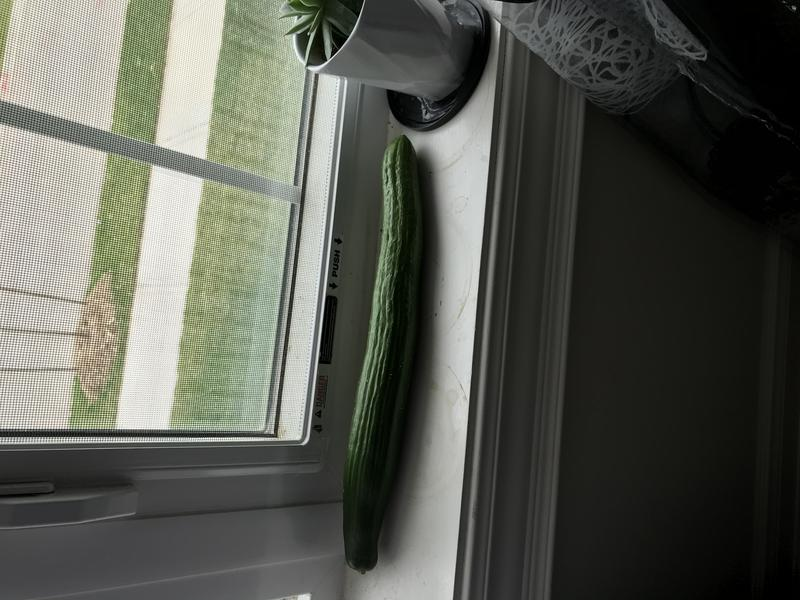cucumber: (330, 125, 431, 585)
